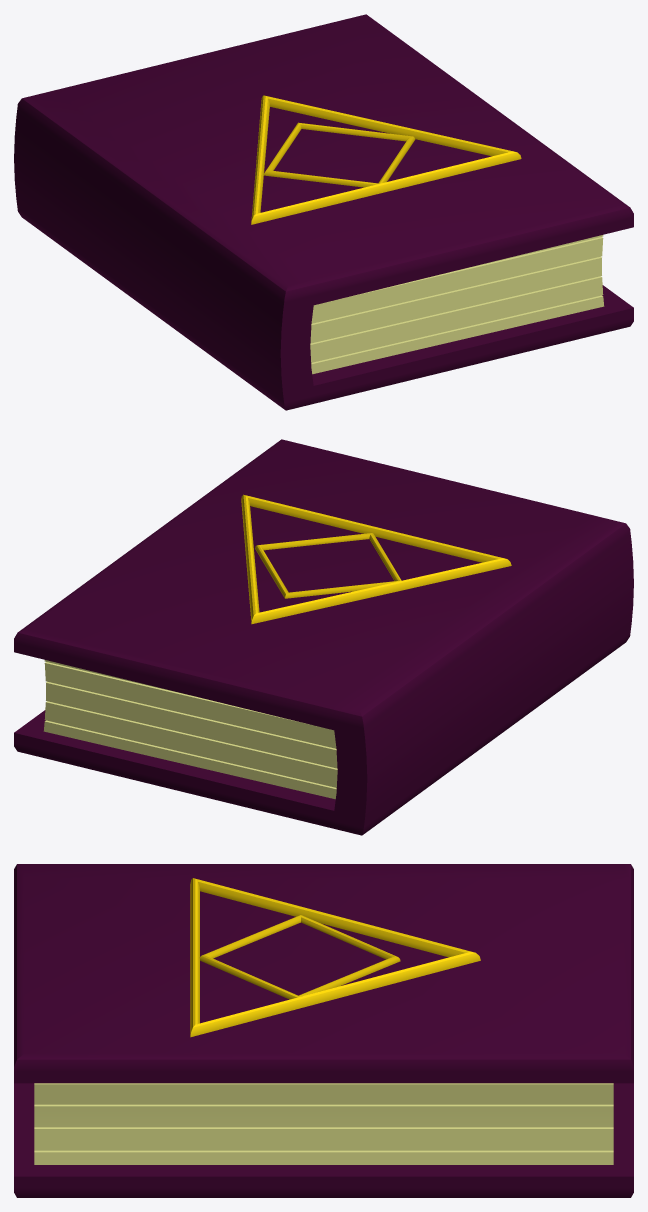
File: book.fbx
The picture shows the model from 3 angles, top to bottom: view 1: azimuth 30°, elevation 25°; view 2: azimuth 150°, elevation 25°; view 3: azimuth 270°, elevation 25°; orthographic projection. The views are drawn at different scales.
Visible parts, largest first — view 1: book; view 2: book; view 3: book.
Part boxes in pixels (box(x1,y1,x2,y2)): book: box(14, 14, 633, 410); book: box(14, 439, 633, 835); book: box(14, 864, 633, 1197).
Size of the model in its own units: 90.68 by 32.25 by 119.
